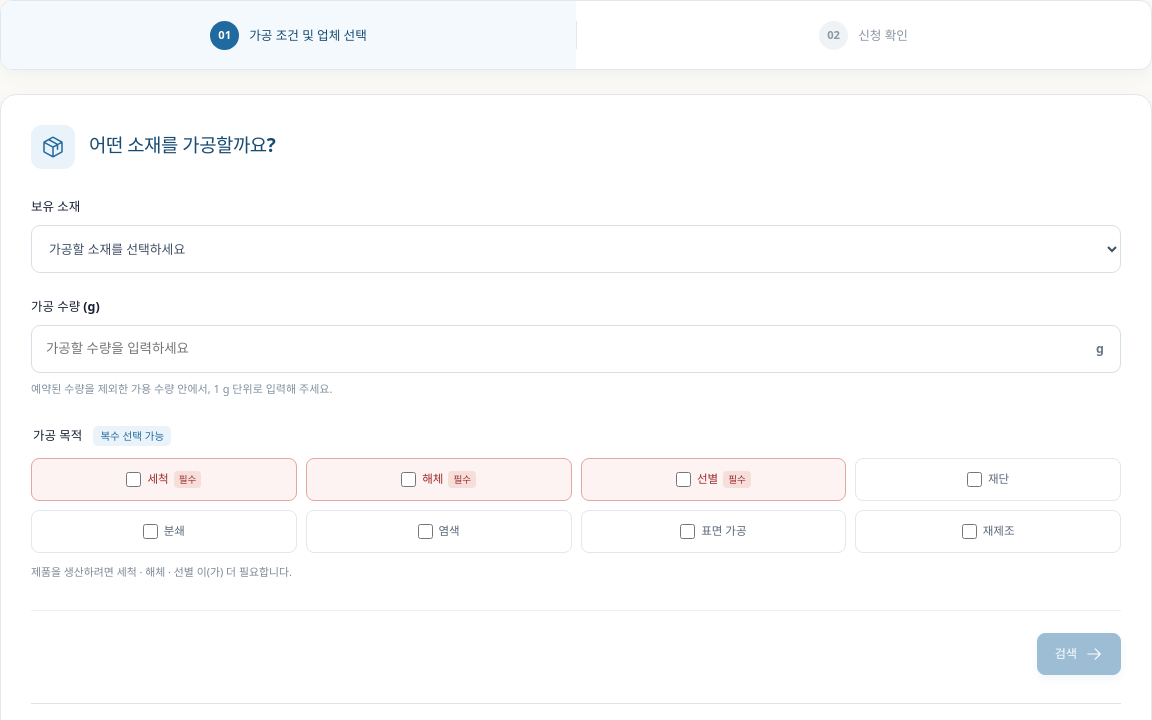
Scenario: 일치하는 가공사가 없으면 조건 완화 안내를 표시한다
This screenshot has width=1152, height=720.
Select "폐데님 · 가공 전 · MAT-1 · 가용 800 g" in the dropdown labelled "보유 소재": point(576, 249) [31,225,1121,273]
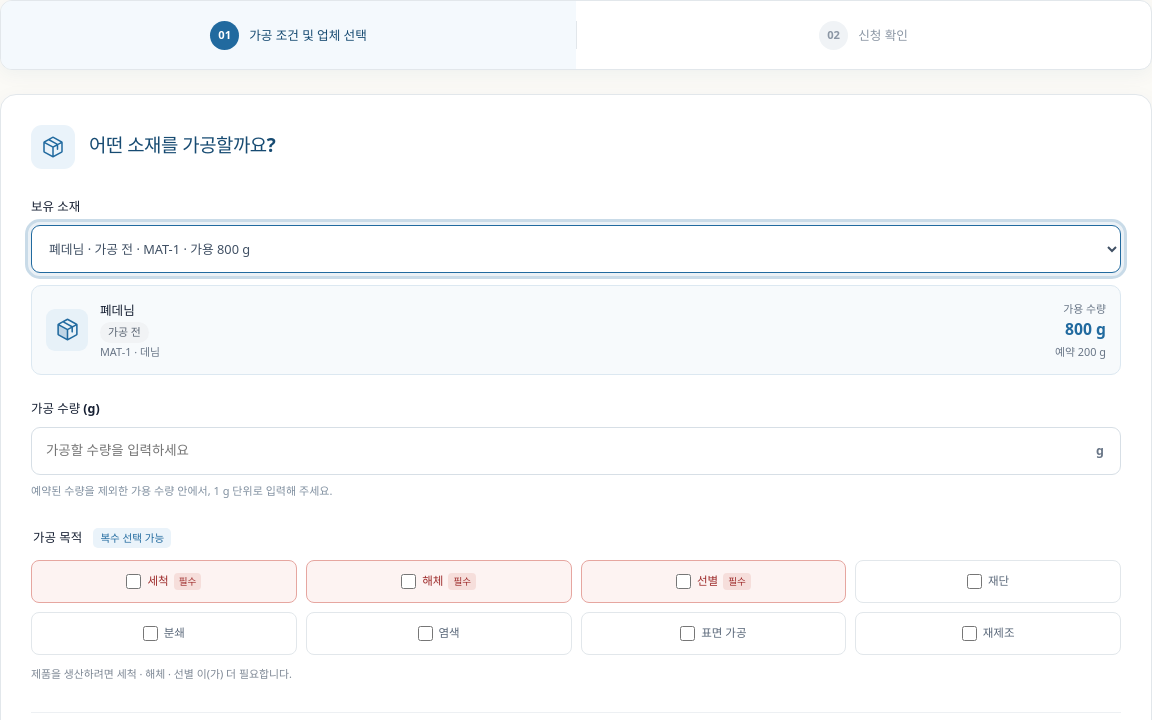
In the field labelled "가공 수량 (g)": point(564, 451) [32,428,1096,474], type "500"
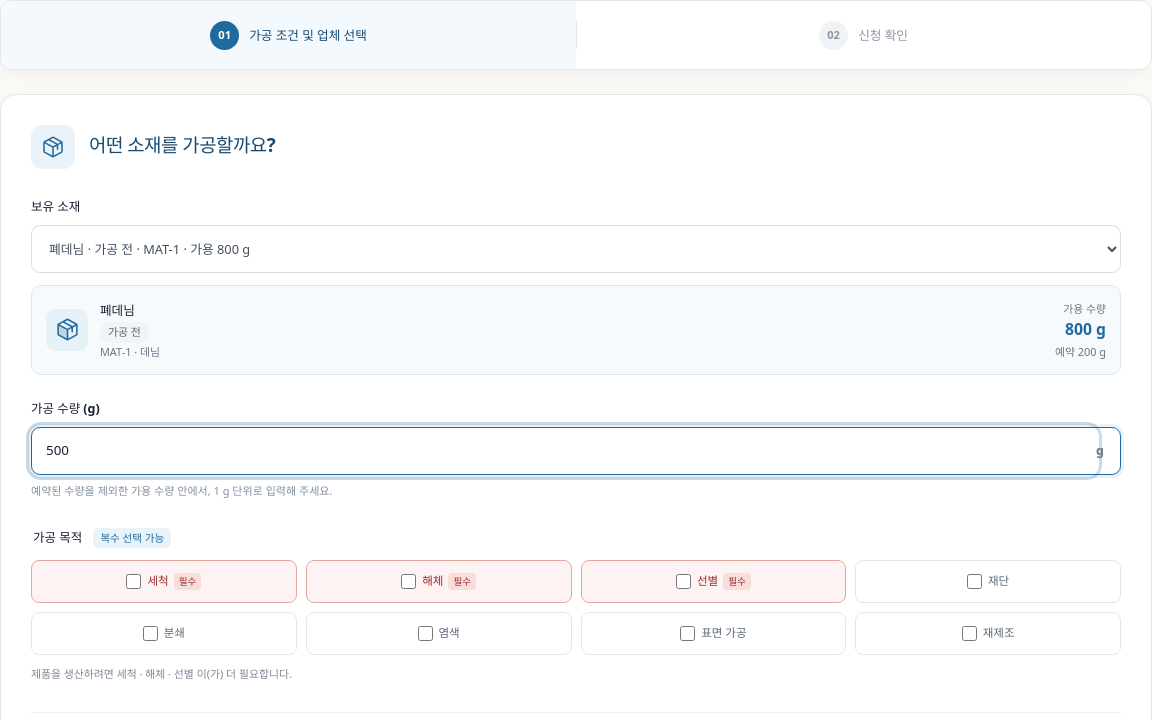
Click the checkbox labelled "세척": point(134, 581) [126,574,141,589]
(page scrolled)
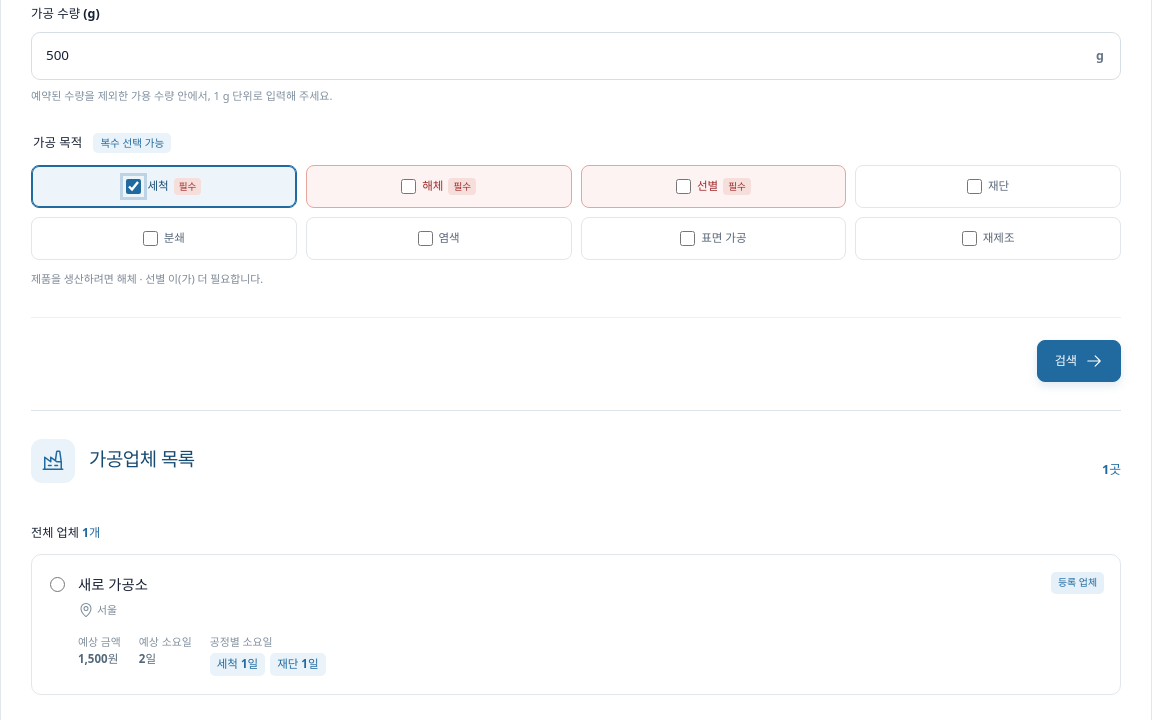
Click the button "검색": point(1079, 361) [1037,340,1121,382]
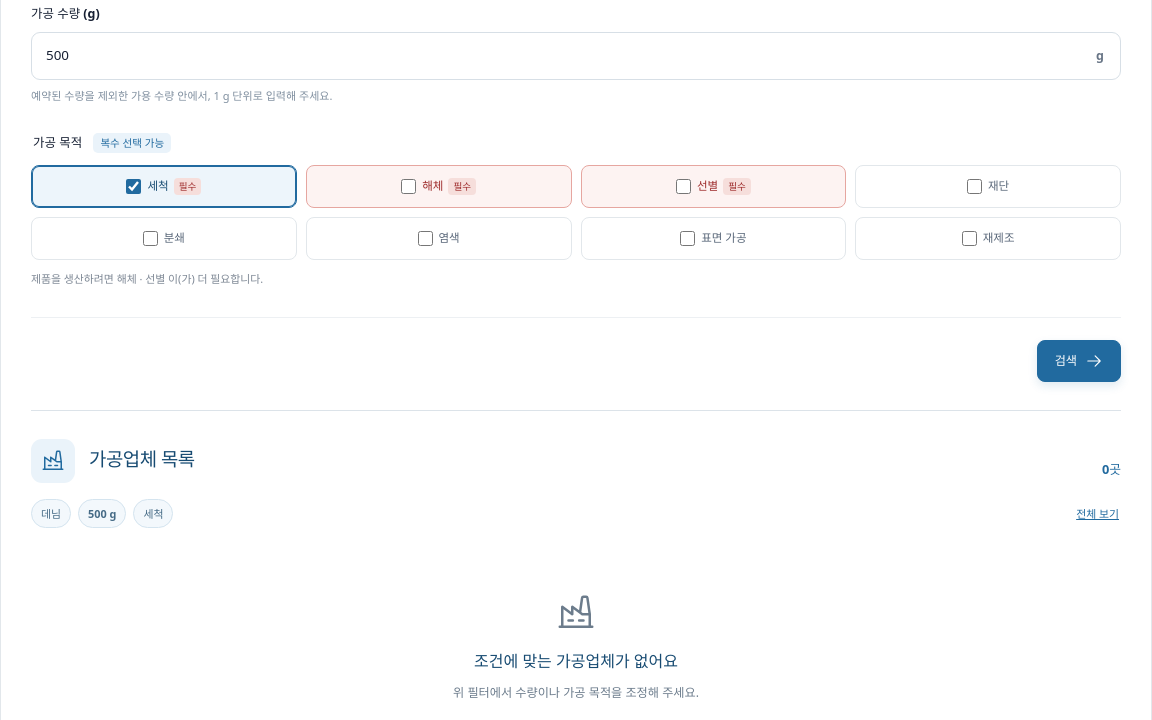
Expected: the heading "조건에 맞는 가공업체가 없어요" is shown, [474,649,678,675]
Expected: the text "위 필터에서 수량이나 가공 목적을 조정해 주세요." is shown, [453,683,699,702]
